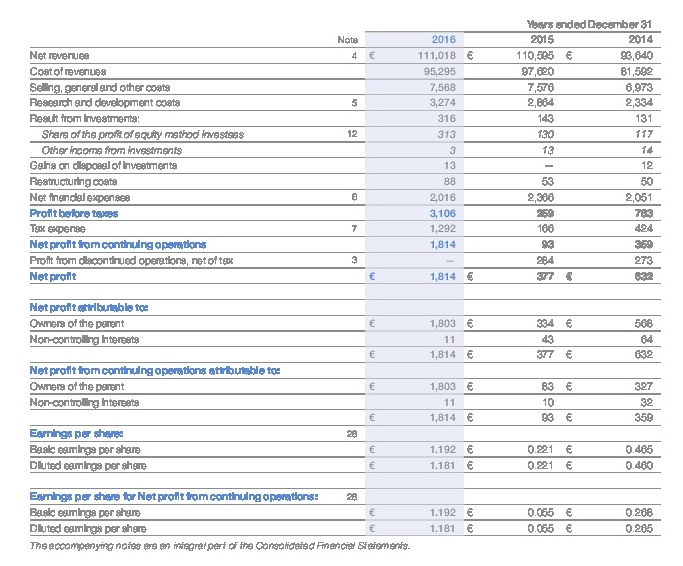table: (0, 0, 683, 566)
